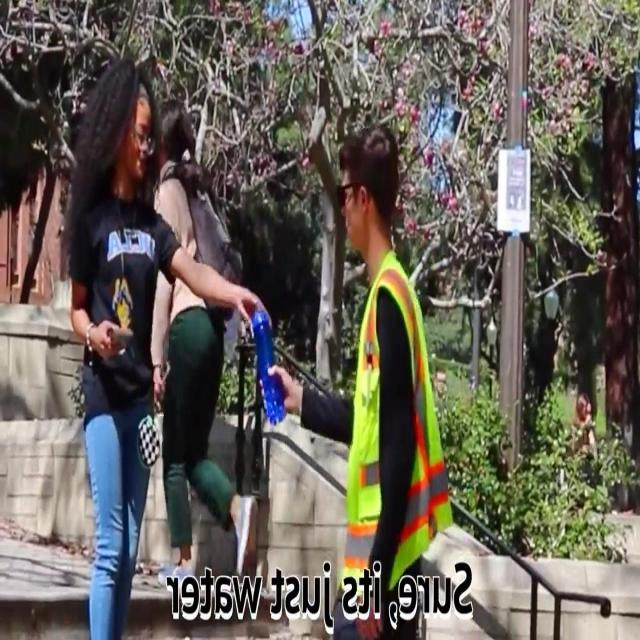Reflective-Jacket: (334, 250, 454, 575)
